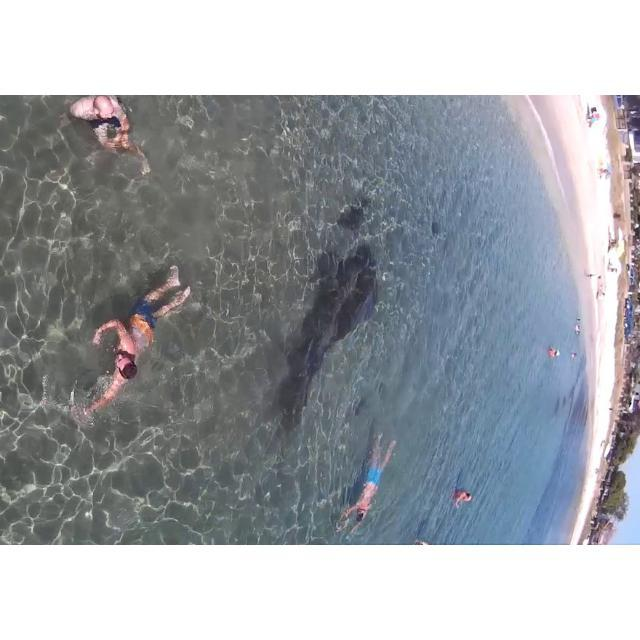human: (82, 252, 197, 428), (68, 95, 153, 187), (345, 434, 403, 531), (455, 486, 474, 515), (550, 346, 564, 366)
